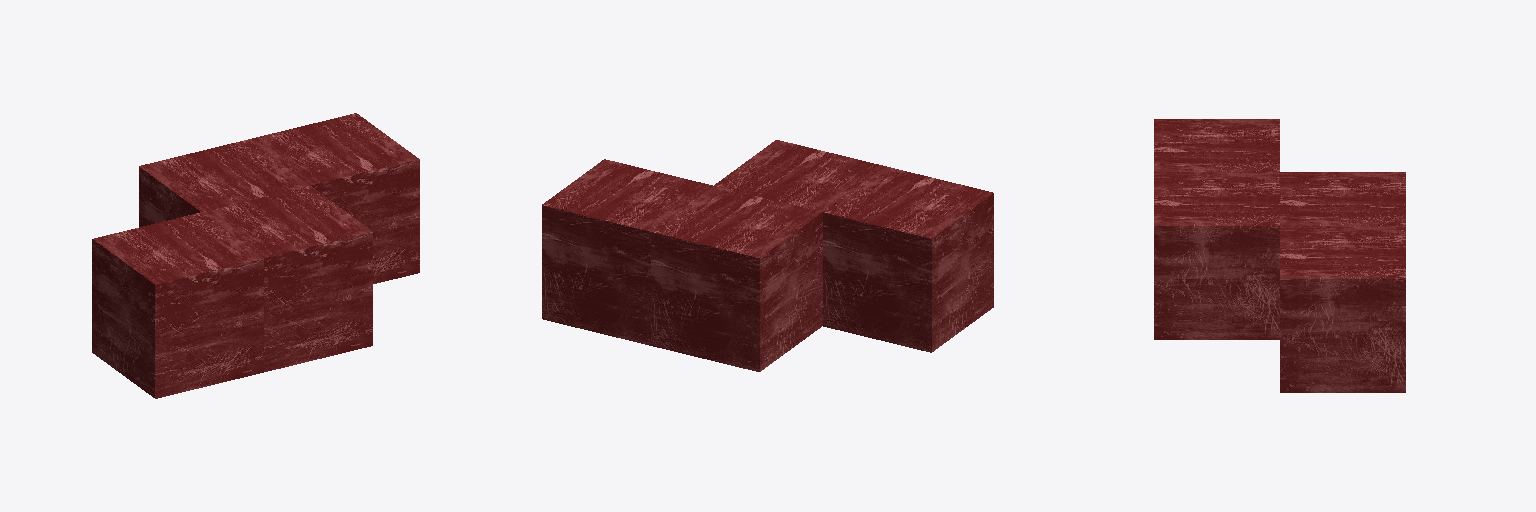
The picture shows the model from 3 angles: view 1: azimuth 30°, elevation 25°; view 2: azimuth 150°, elevation 25°; view 3: azimuth 270°, elevation 25°; orthographic projection.
Visible parts, largest first — view 1: Cube.004, Cube.003, Cube.002, Cube.001; view 2: Cube.001, Cube.004, Cube.002, Cube.003; view 3: Cube.003, Cube.002, Cube.001, Cube.004.
Boxes of the visible parts, box(x1,y1,x2,y2) form: Cube.004: box(92, 212, 263, 398); Cube.003: box(202, 186, 372, 371); Cube.002: box(248, 113, 419, 283); Cube.001: box(139, 140, 309, 226); Cube.001: box(651, 186, 822, 371); Cube.004: box(823, 166, 993, 352); Cube.002: box(542, 159, 712, 345); Cube.003: box(714, 140, 884, 211); Cube.003: box(1154, 172, 1279, 339); Cube.002: box(1280, 226, 1405, 392); Cube.001: box(1280, 172, 1405, 225); Cube.004: box(1154, 119, 1279, 171).
Size of the model in its own units: 6 by 2 by 4.
Materials: 1 (1 with a texture image).